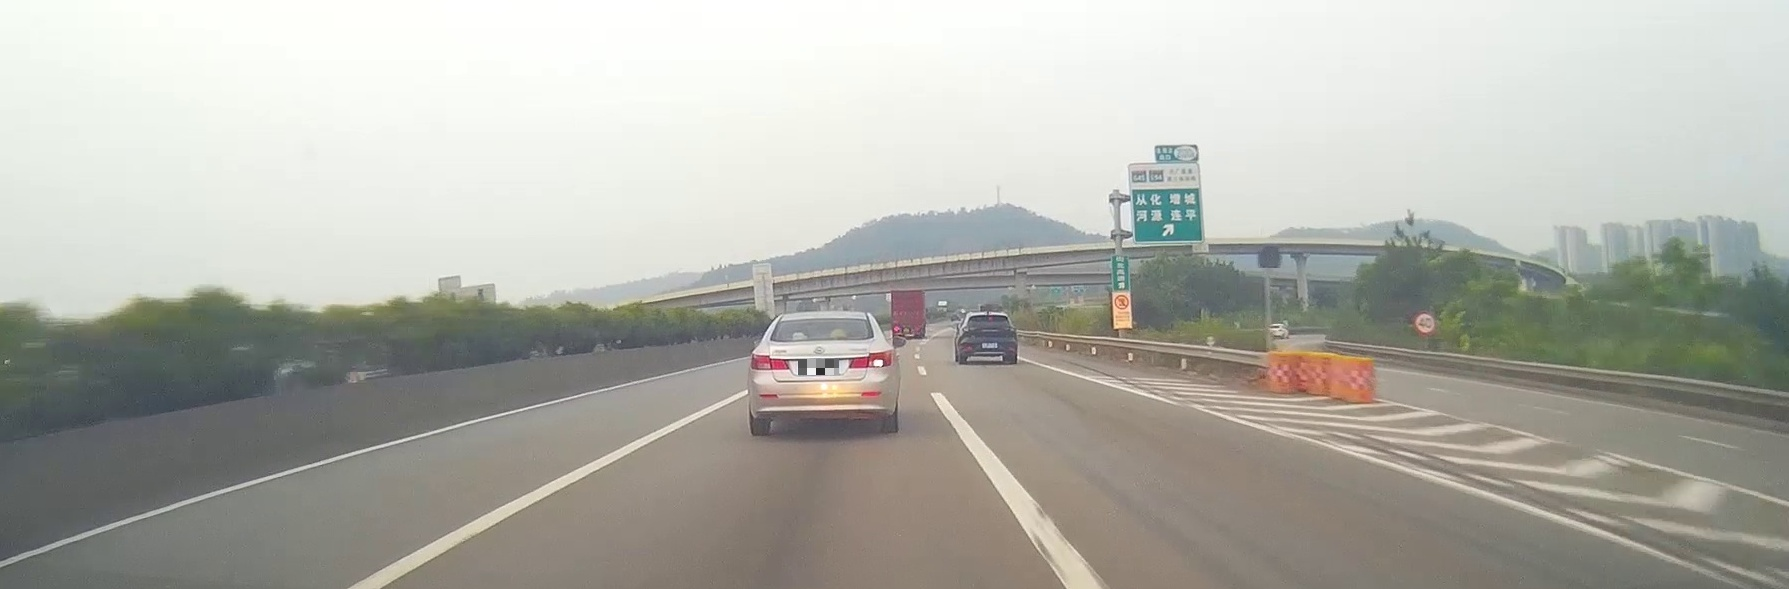L_light: (750, 353, 788, 370), (963, 326, 976, 332)
R_light: (849, 350, 892, 368), (1003, 326, 1015, 332)
T_light: (812, 318, 828, 324), (983, 315, 994, 318)
day-no: (957, 312, 1018, 364)
day-right: (748, 310, 894, 435)
plate_1: (798, 360, 839, 376)
